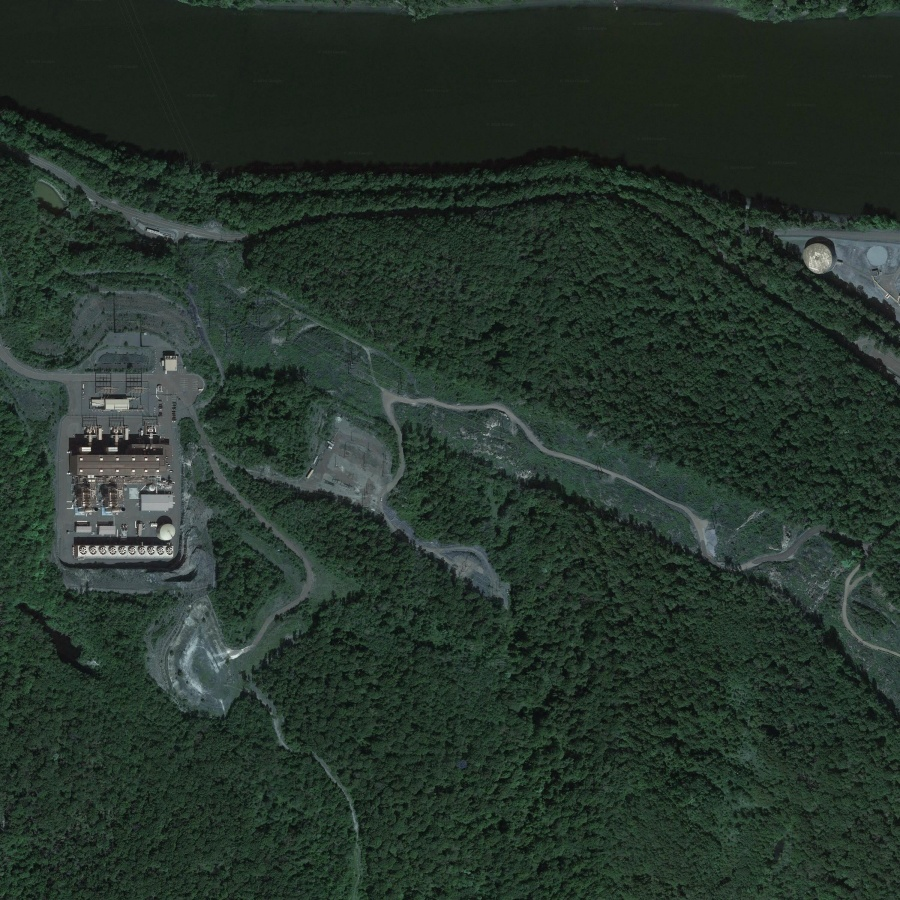PowerPlant: (60, 335, 206, 575)
